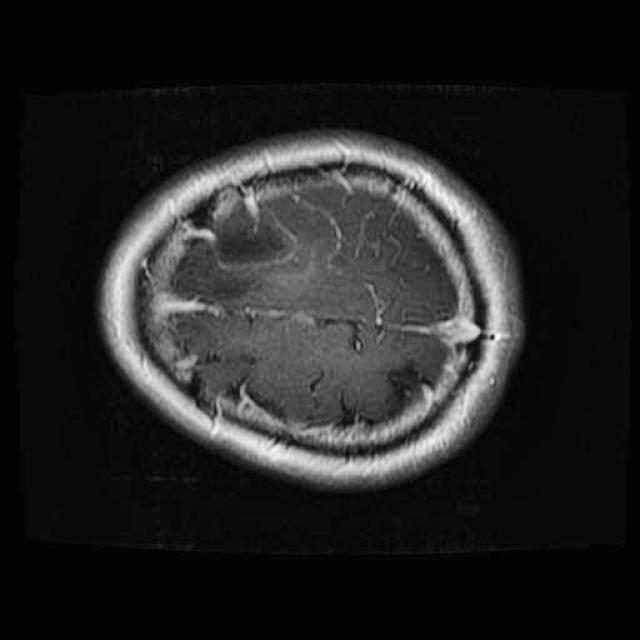Tumor: (200, 188, 304, 272)
